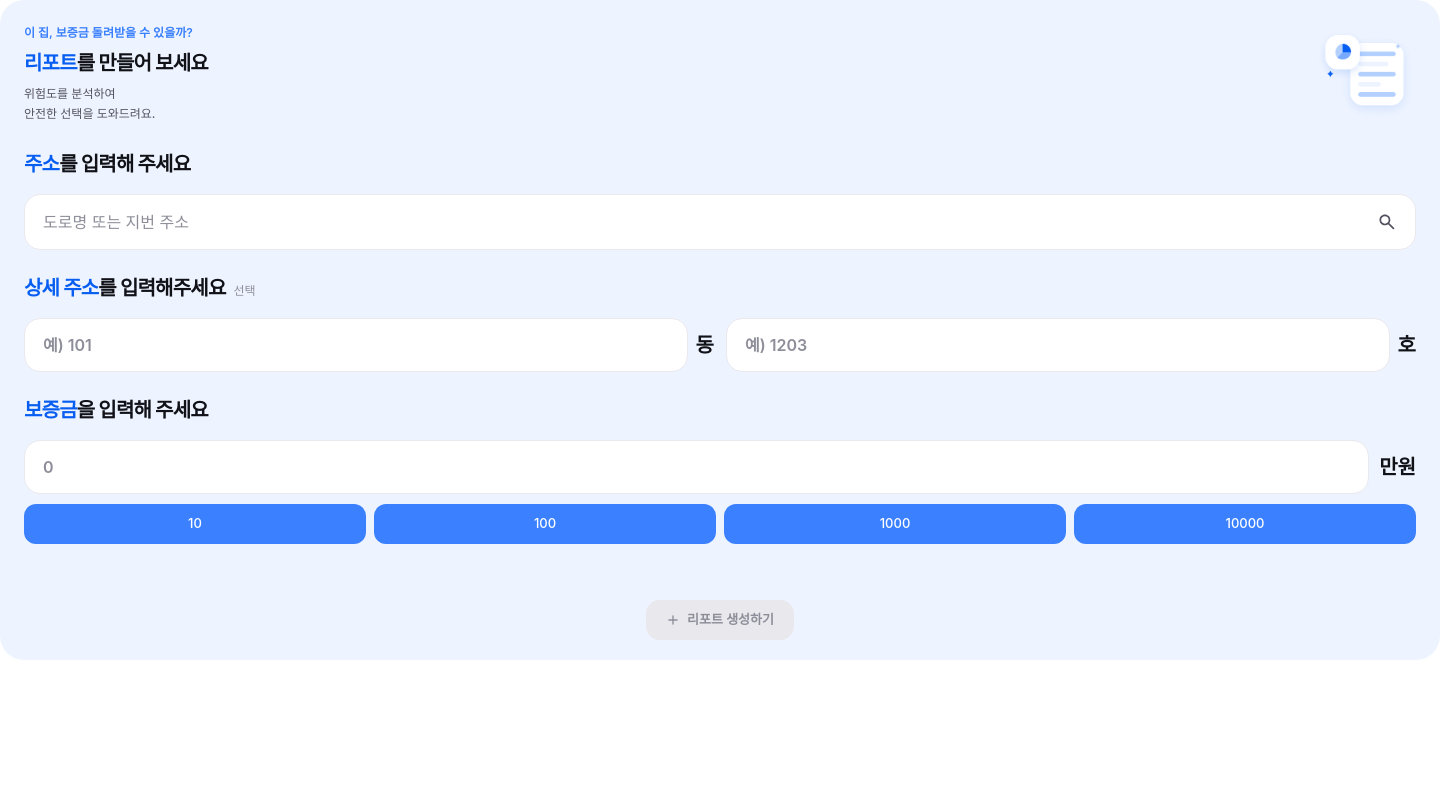
Test: ReportCreateForm › 주소를 선택하고 0보다 큰 보증금을 입력해야 submit 버튼을 활성화한다
Expected: the button with class "report-create-form__submit" is disabled, [646,600,794,640]
Type "10000" into the field named "보증금". click: (698, 467)
box: [41,454,1354,480]
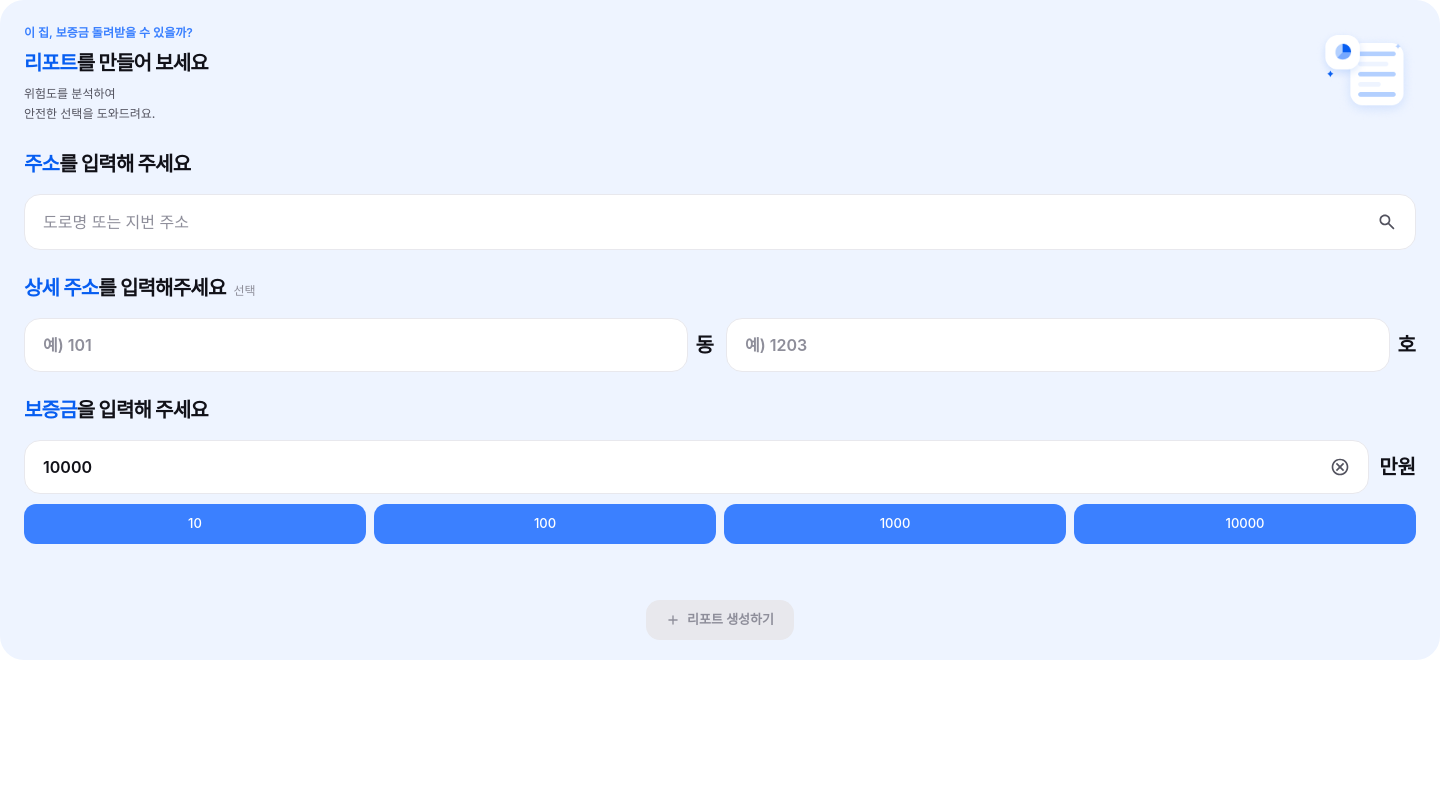
Expected: the button with class "report-create-form__submit" is disabled, [646,600,794,640]
Type "테헤란로" into the field named "주소 검색어". click: (703, 222)
box: [41,209,1365,235]
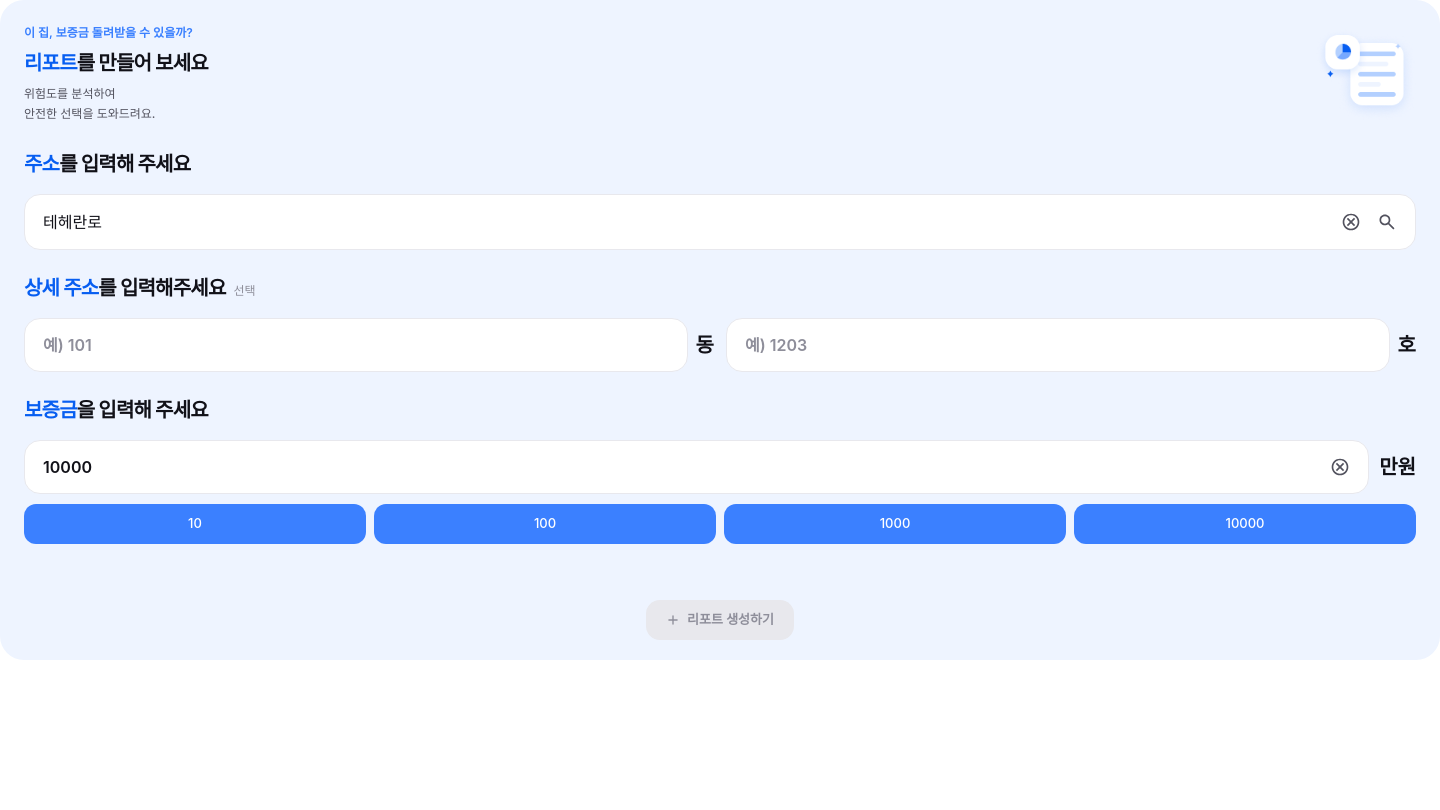
Click the button named "주소 검색". click: (1387, 222)
box: [1373,208,1401,236]
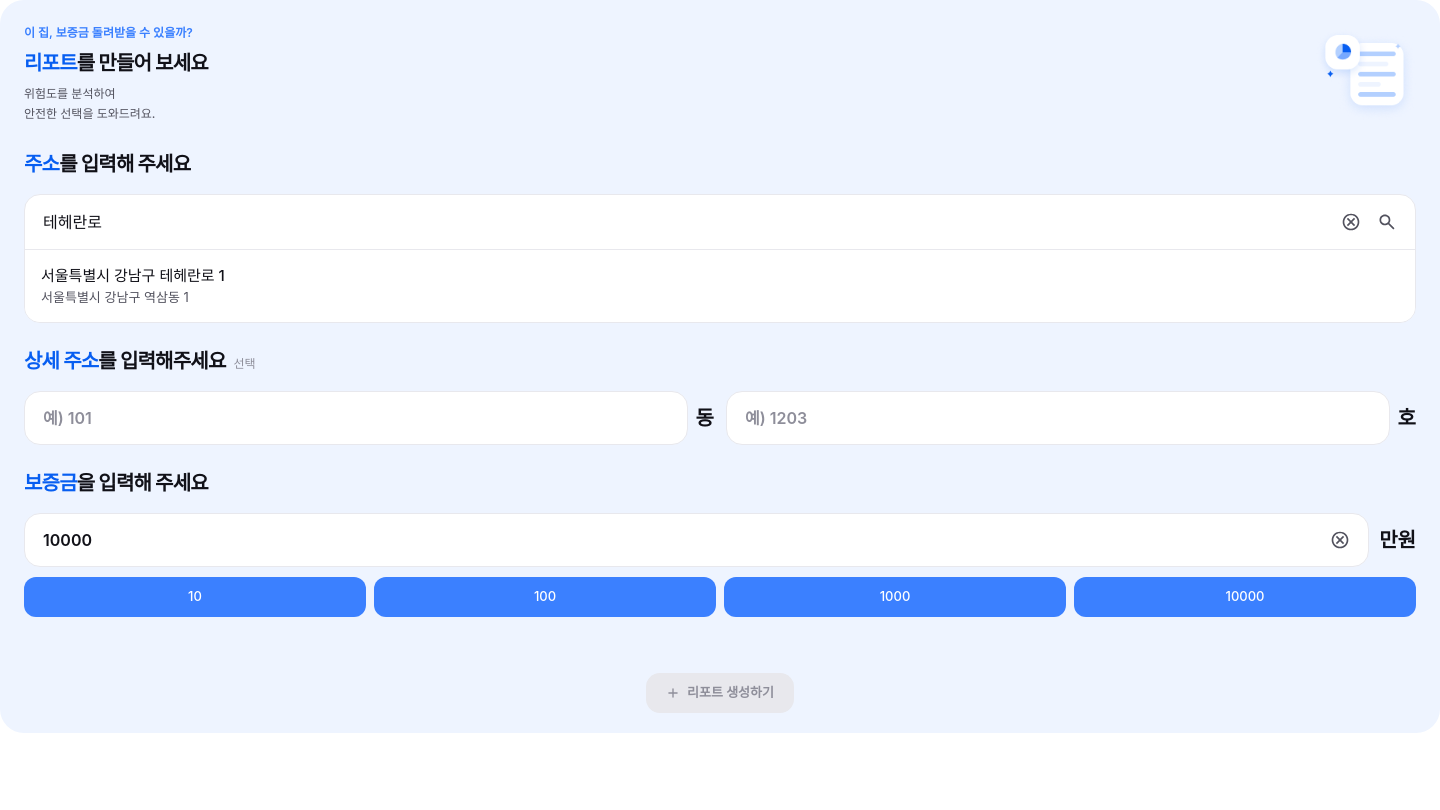
Click the button with class "address-search__result". click: (133, 276)
box: [25,250,1415,322]
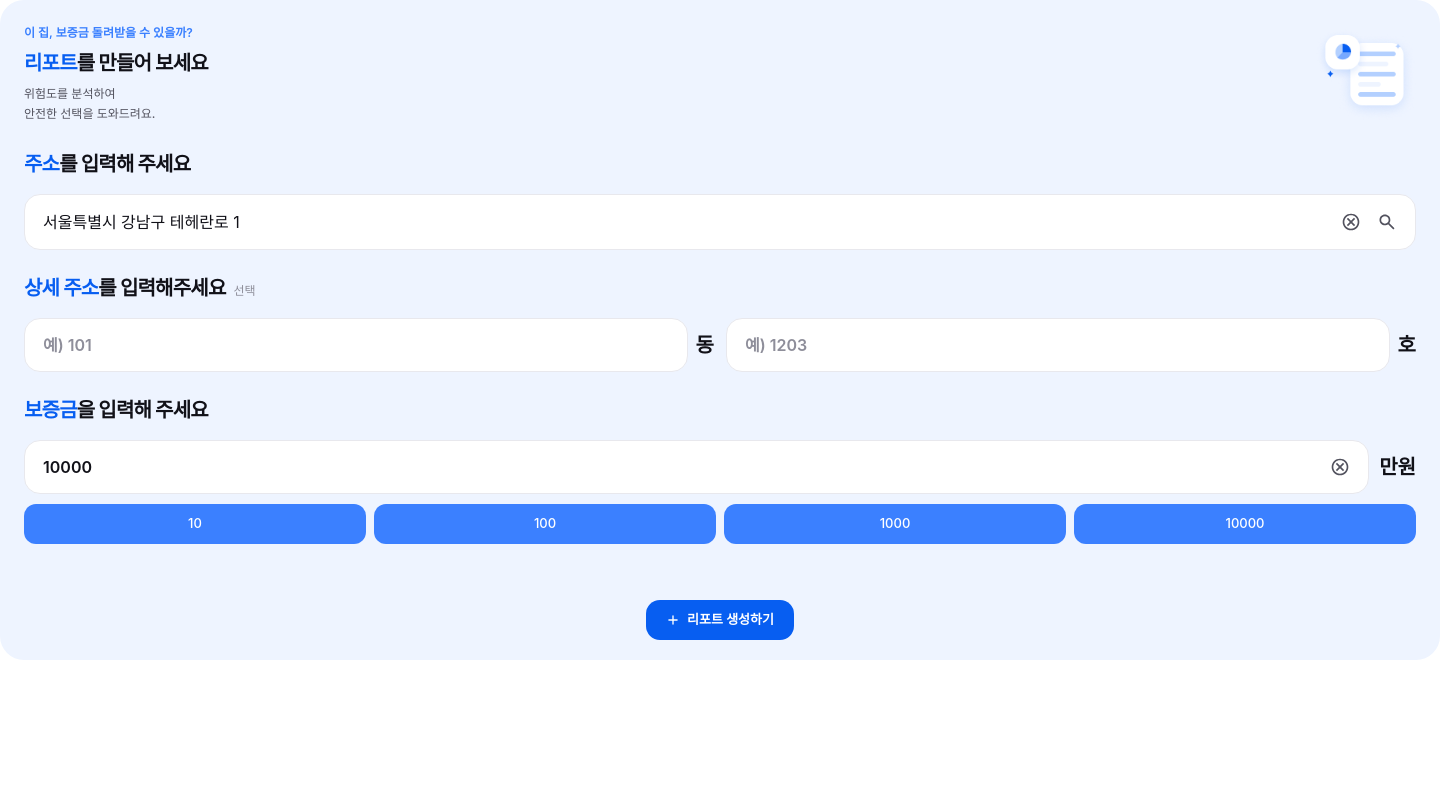
Now the button with class "report-create-form__submit" is enabled, box [646,600,794,640]
